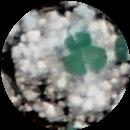Basil: (65, 48, 105, 73), (59, 29, 91, 52)
